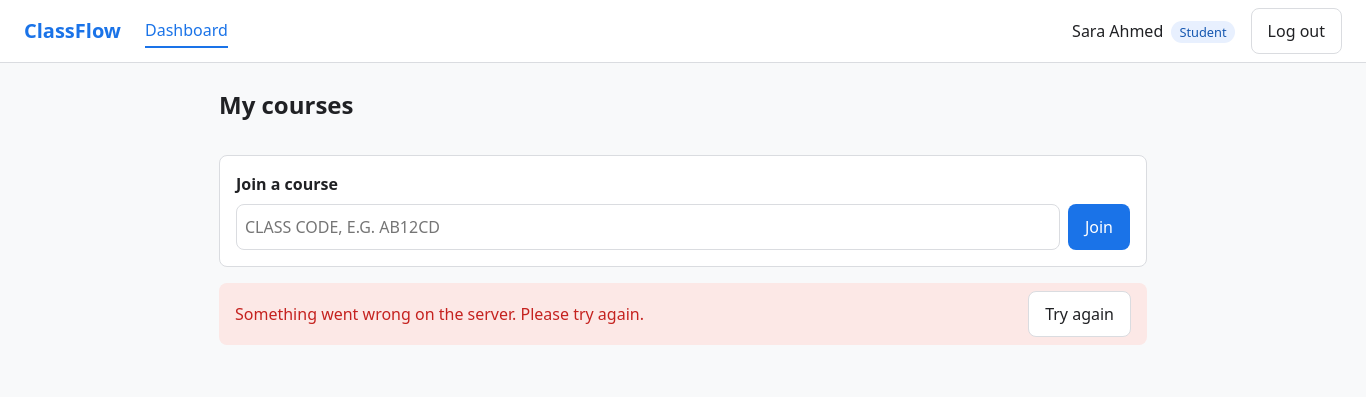
Test: dashboards › shows an error with a Try again button that reloads
Expected: the message shows "Something went wrong on the server", 235,303 -> 644,325
Click the button "Try again" at (1080, 314), box 1028,291 -> 1131,337
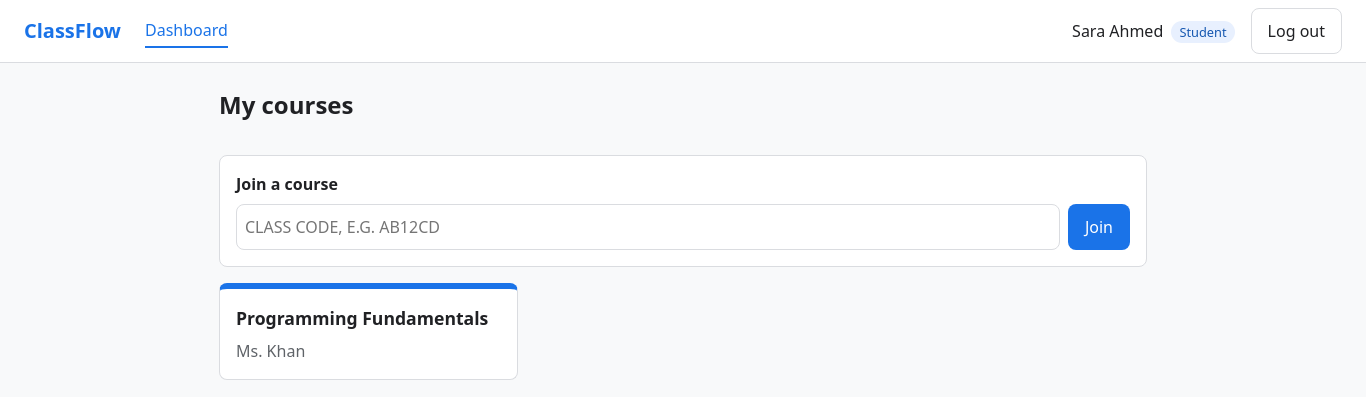
Result: the text "Programming Fundamentals" is shown at 236,305 -> 501,331
Result: the message "Something went wrong on the server. Please try again. Try again" is gone
